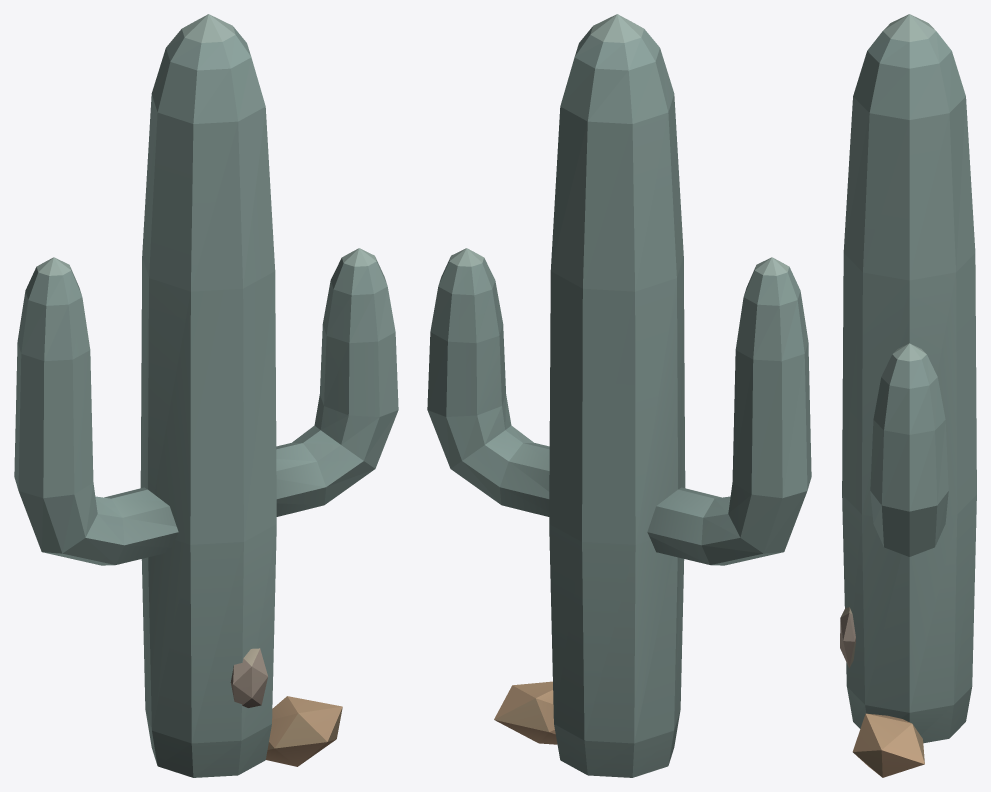
Rendered from saguaro.lod1.glb.
The picture shows the model from 3 angles, left to right: view 1: azimuth 30°, elevation 25°; view 2: azimuth 150°, elevation 25°; view 3: azimuth 270°, elevation 25°; orthographic projection. The views are drawn at different scales.
Bounding box in the file's own units: 2.65 × 5.07 × 0.8733.
